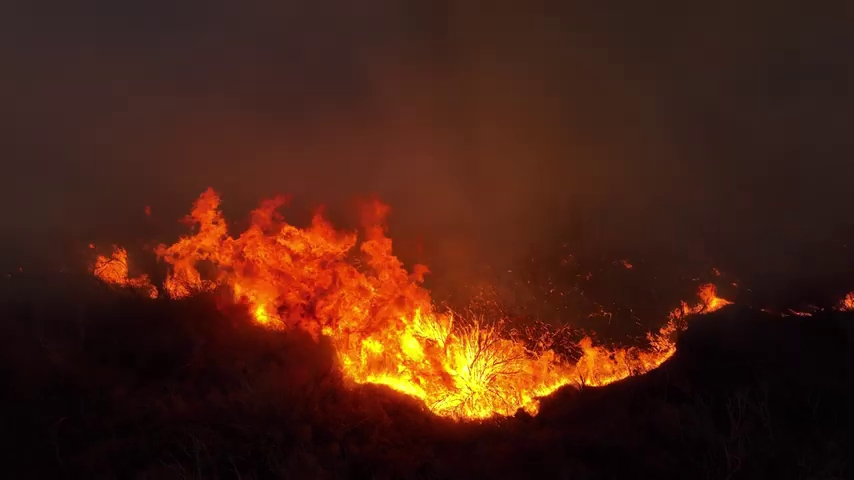forest_fire: (156, 189, 729, 417), (92, 246, 157, 297)
